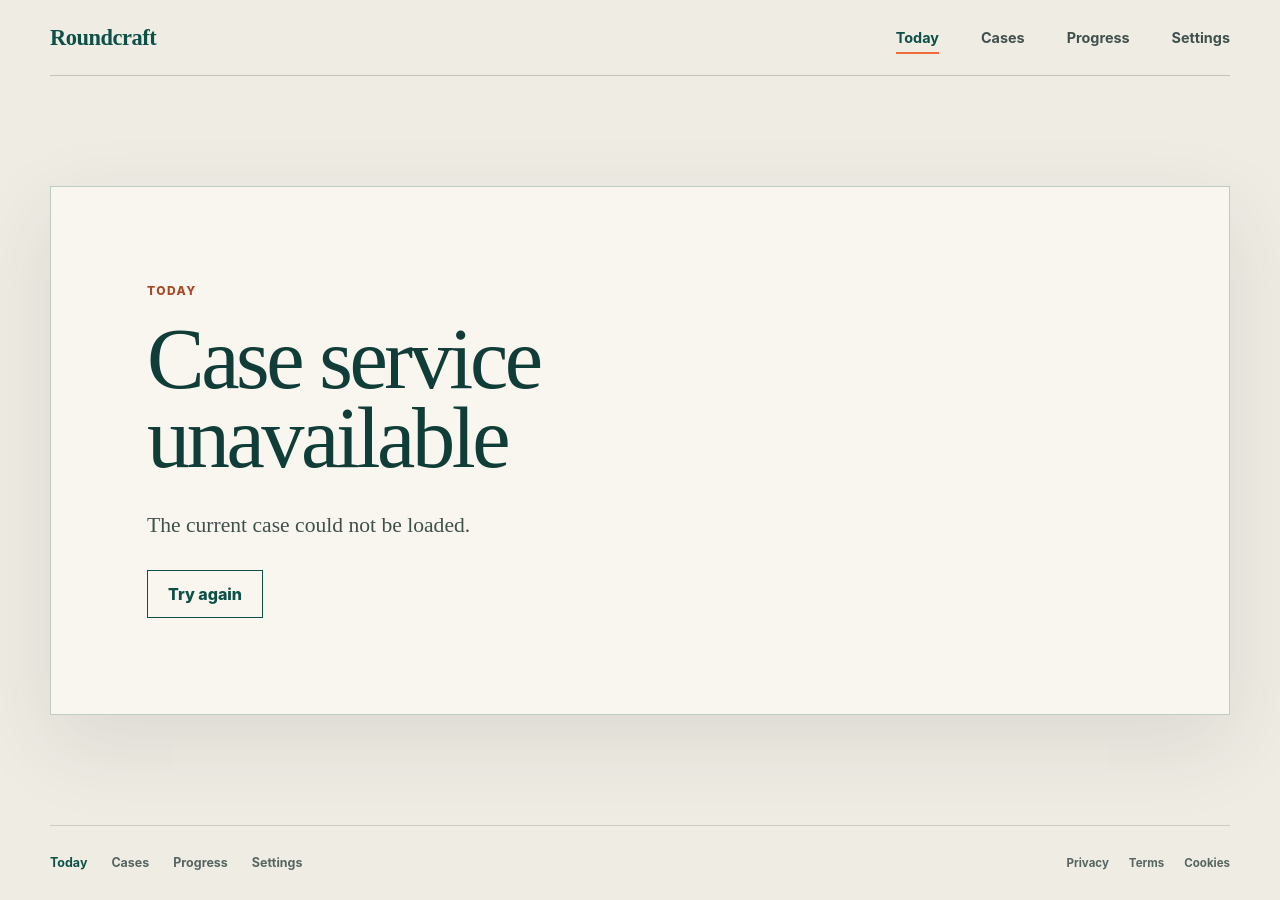
Test: App › recovers from an invalid Today response when retried
Expected: the heading "Case service unavailable" is shown, [147, 311, 540, 486]
Click the button "Try again": (205, 594) [147, 570, 263, 618]
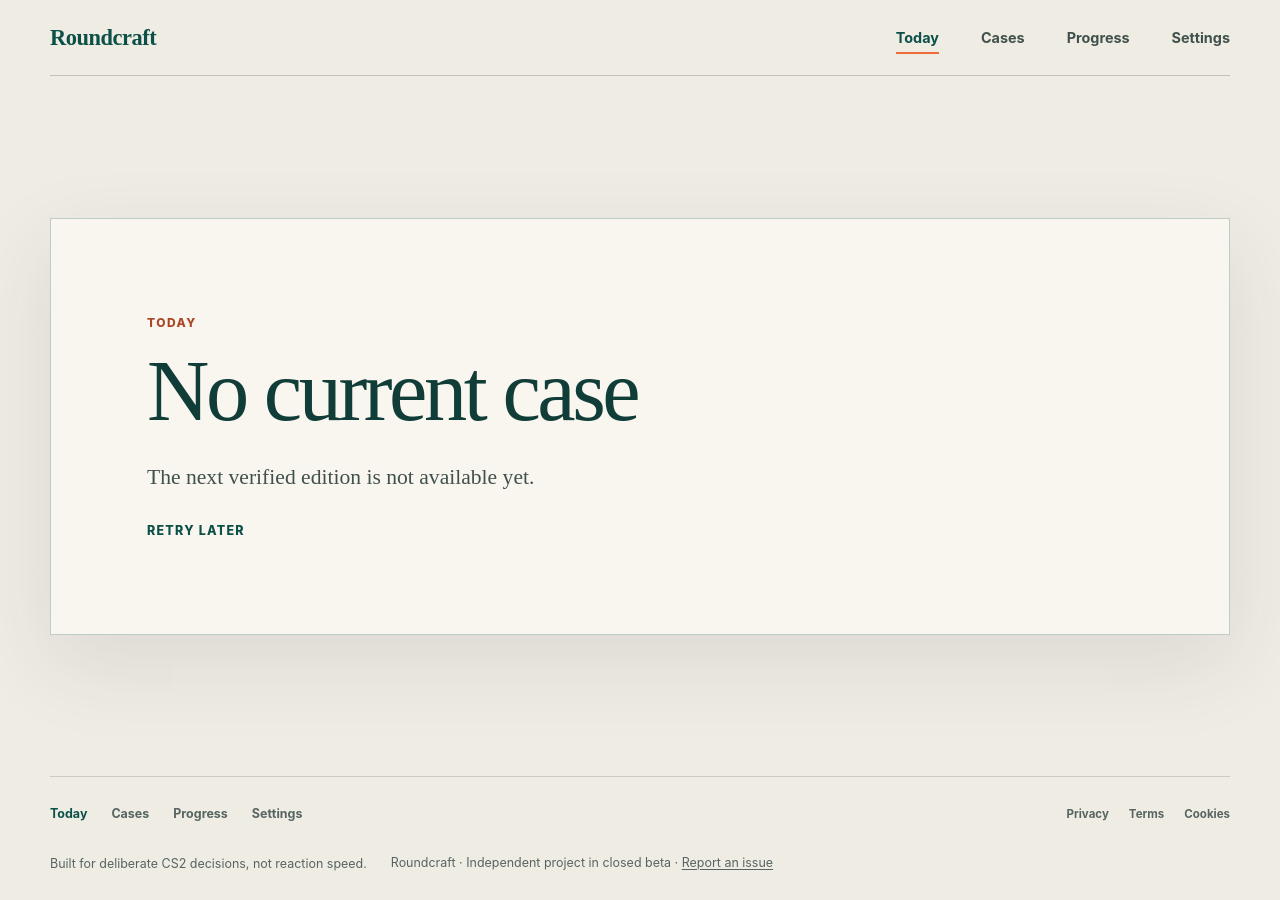
Now the heading "No current case" is shown, box [147, 343, 637, 439]
